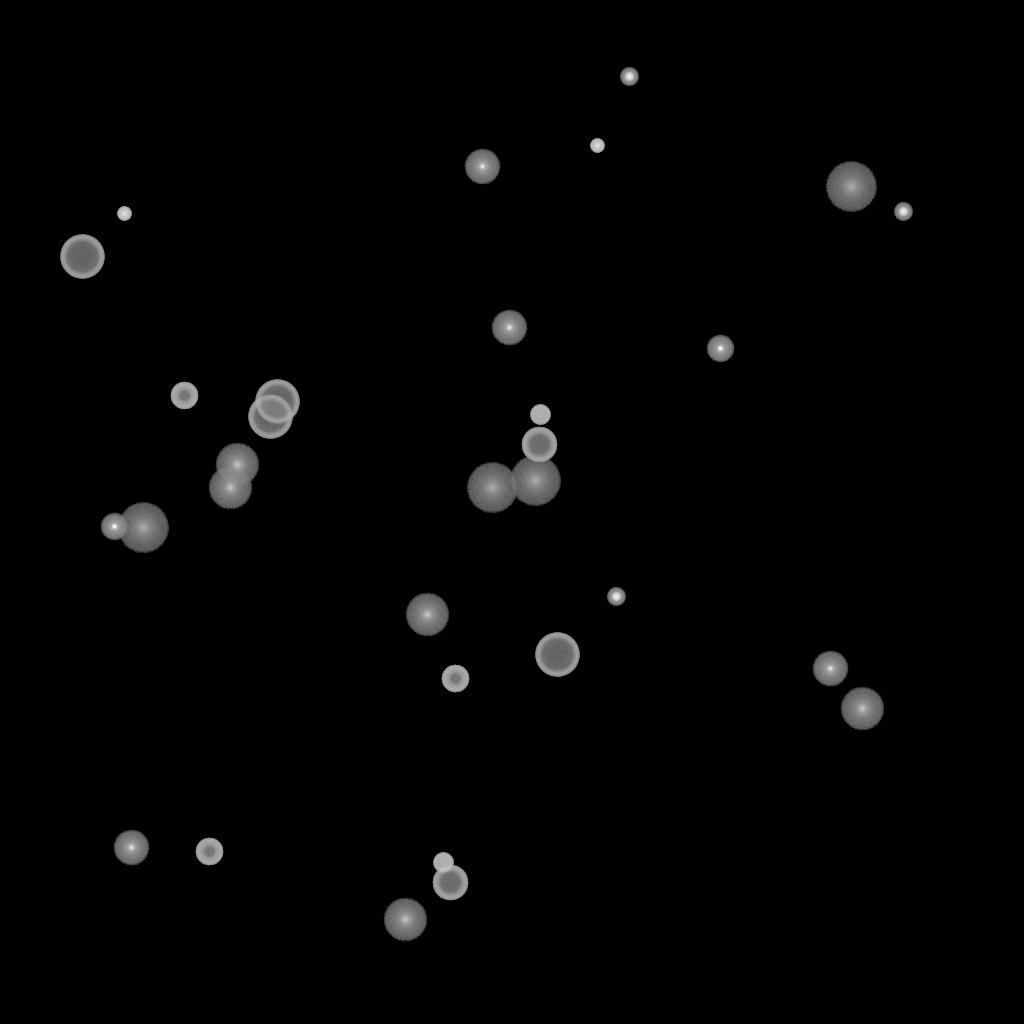depth:-10: (706, 335, 734, 363), (100, 513, 128, 541)
depth:-20: (620, 68, 638, 86), (894, 203, 912, 221), (607, 588, 625, 606)
depth:-30: (117, 207, 131, 221), (590, 139, 604, 153)
depth:-40: (433, 853, 453, 873), (530, 405, 550, 425)
depth:-50: (441, 665, 469, 693), (195, 838, 223, 866), (170, 382, 198, 410)
depth:-60: (432, 865, 468, 901), (521, 427, 557, 463)
depth:-70: (60, 235, 104, 279), (255, 380, 299, 424), (248, 395, 292, 439), (535, 633, 579, 677)
depth:0: (113, 830, 149, 866), (812, 651, 848, 687), (464, 149, 500, 185), (491, 310, 527, 346)
depth:10: (208, 466, 252, 510), (215, 443, 259, 487), (405, 593, 449, 637), (840, 687, 884, 731), (383, 898, 427, 942)
depth:20: (509, 456, 561, 506), (117, 503, 169, 553), (825, 162, 877, 212), (466, 463, 518, 513)
